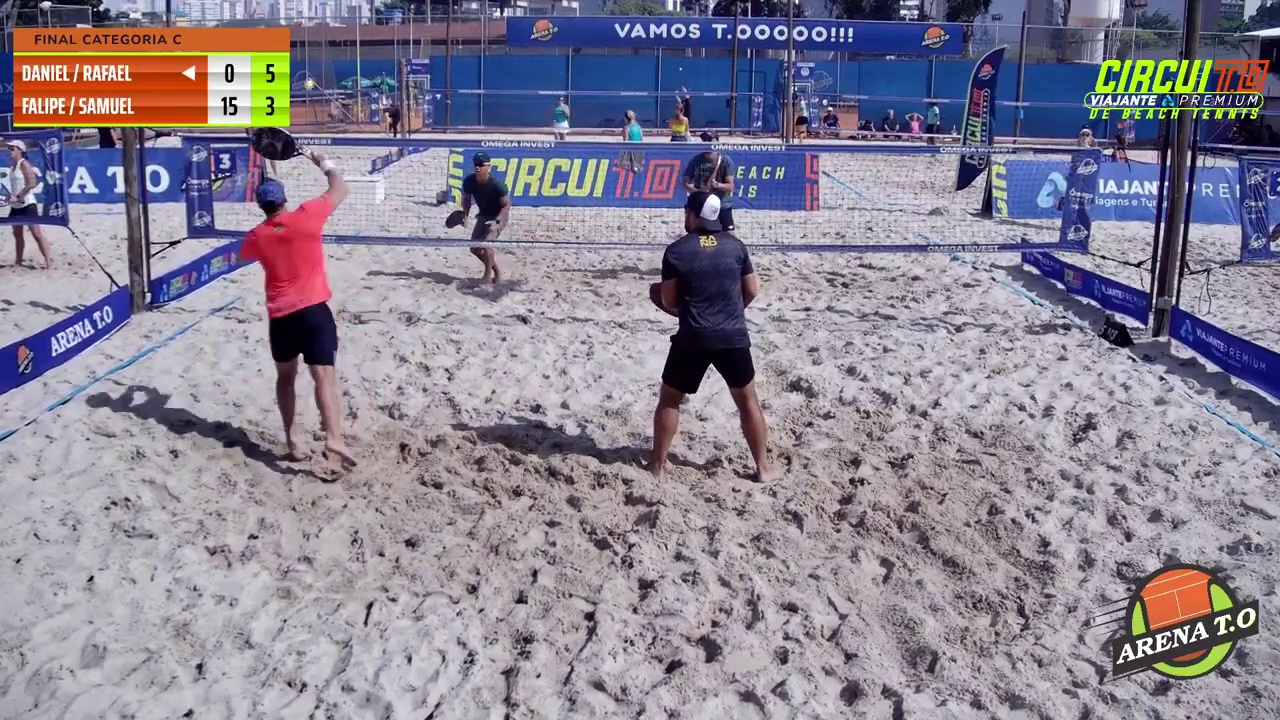court_line: (462, 0, 634, 480), (514, 0, 670, 465), (463, 0, 584, 497)
